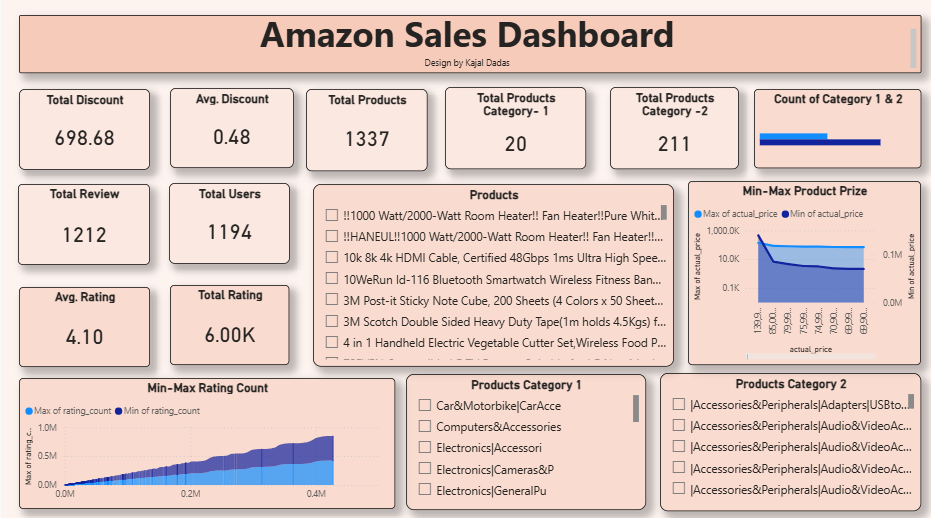

This screenshot's page, from the dashboard's own definition file:
{"tool":"powerbi","page":{"name":"Page 1","canvas":[1280,720],"ordinal":0},"visuals":[{"type":"textbox","box":[24.3,25.7,1240,80],"z":0},{"type":"card","title":"Total Discount","fields":{"Values":["Sum(amazon.discount_percentage)"]},"box":[24.3,127.1,180,111.4],"z":1000},{"type":"card","title":" Total Review","fields":{"Values":["Count(amazon.review_content)"]},"box":[22.9,258.6,181.4,111.4],"z":2000},{"type":"slicer","title":"Products","fields":{"Values":["amazon.product_name"]},"box":[428.6,258.6,495.7,251.4],"z":3000},{"type":"card","title":"Avg. Discount","fields":{"Values":["Avg(amazon.discount_percentage)"]},"box":[232.7,125.9,169.8,109.8],"z":4000},{"type":"card","title":"Total Users","fields":{"Values":["Count(amazon.user_name)"]},"box":[231.4,257.1,165.7,111.4],"z":5000},{"type":"card","title":"Total Products","fields":{"Values":["Count(amazon.product_name)"]},"box":[418.6,127.1,167.1,112.9],"z":6000},{"type":"card","title":"Total Products Category -2","fields":{"Values":["Count(amazon.Category 2)"]},"box":[837.1,125.7,177.1,112.9],"z":7000},{"type":"slicer","title":"Products Category 1","fields":{"Values":["amazon.category"]},"box":[557.1,520,330,187.1],"z":8000},{"type":"card","title":"Avg. Rating","fields":{"Values":["Avg(amazon.rating)"]},"box":[24.3,400,180,110],"z":9000},{"type":"card","title":" Total Rating","fields":{"Values":["Sum(amazon.rating)"]},"box":[232.9,397.1,164.3,110],"z":10000},{"type":"ribbonChart","title":"Min-Max Rating Count","fields":{"Category":["amazon.rating_count"],"Y":["Max(amazon.rating_count)","Min(amazon.rating_count)"]},"box":[24.3,524.3,517.1,180],"z":11000},{"type":"areaChart","title":"Min-Max Product  Prize","fields":{"Y":["Max(amazon.actual_price)"],"Category":["amazon.actual_price"],"Y2":["Min(amazon.actual_price)"]},"box":[944.3,254.3,320,252.9],"z":12000},{"type":"slicer","title":"Products Category 2","fields":{"Values":["amazon.Category 2"]},"box":[905.7,518.6,358.6,190],"z":13000},{"type":"card","title":"Total Products Category- 1","fields":{"Values":["Count(amazon.category)"]},"box":[610,125.7,194.3,112.9],"z":14000},{"type":"clusteredBarChart","title":"Count of Category 1 & 2","fields":{"Y":["Count(amazon.category)","Count(amazon.Category 2)"]},"box":[1034.3,127.1,230,108.6],"z":15000}]}

Visuals, with their boxes in screenshot pixels (x1, y1, x2, y2), scaled from the page's 1280x720 canvas onto the 931x518 screenshot:
textbox: 18,18,920,76
"Total Discount" card: 18,91,149,172
" Total Review" card: 17,186,149,266
"Products" slicer: 312,186,672,367
"Avg. Discount" card: 169,91,293,170
"Total Users" card: 168,185,289,265
"Total Products" card: 304,91,426,173
"Total Products Category -2" card: 609,90,738,172
"Products Category 1" slicer: 405,374,645,509
"Avg. Rating" card: 18,288,149,367
" Total Rating" card: 169,286,289,365
"Min-Max Rating Count" ribbonChart: 18,377,394,507
"Min-Max Product  Prize" areaChart: 687,183,920,365
"Products Category 2" slicer: 659,373,920,510
"Total Products Category- 1" card: 444,90,585,172
"Count of Category 1 & 2" clusteredBarChart: 752,91,920,170
